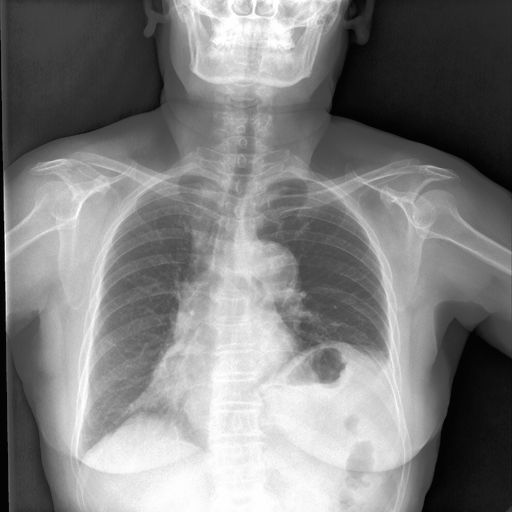Aortic enlargement: (137, 363, 205, 434)
Consolidation: (178, 235, 312, 312)
Infiltration: (254, 337, 404, 396)
Other lesion: (260, 331, 400, 400)
Pleural effusion: (344, 334, 404, 394)
Pleural thickening: (136, 318, 207, 433), (184, 167, 240, 225)
